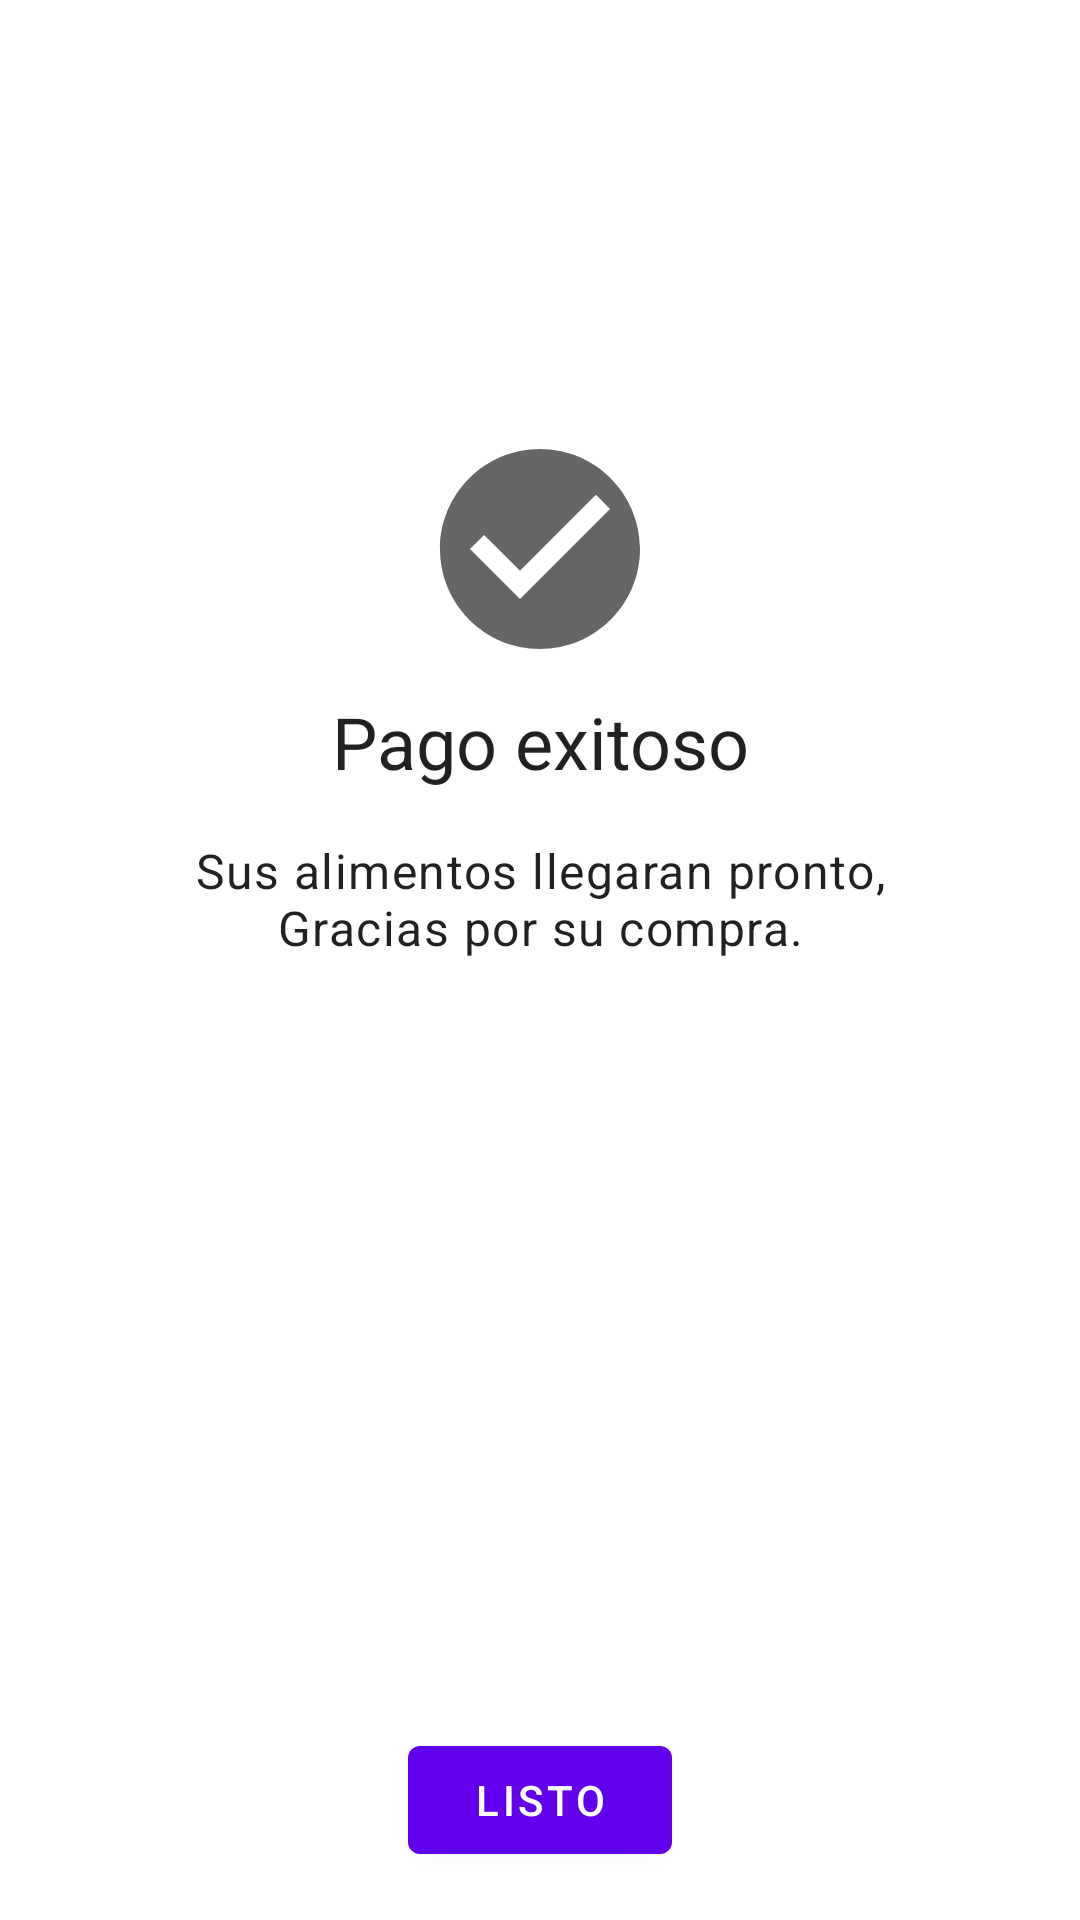

Icon click points for this 1080w x 1920h phone screenshot, format [x,y]:
check circle: [540,549]
